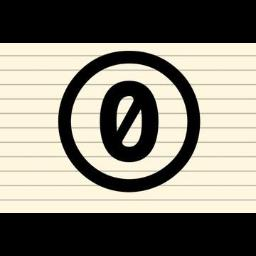o: (54, 48, 208, 200)
